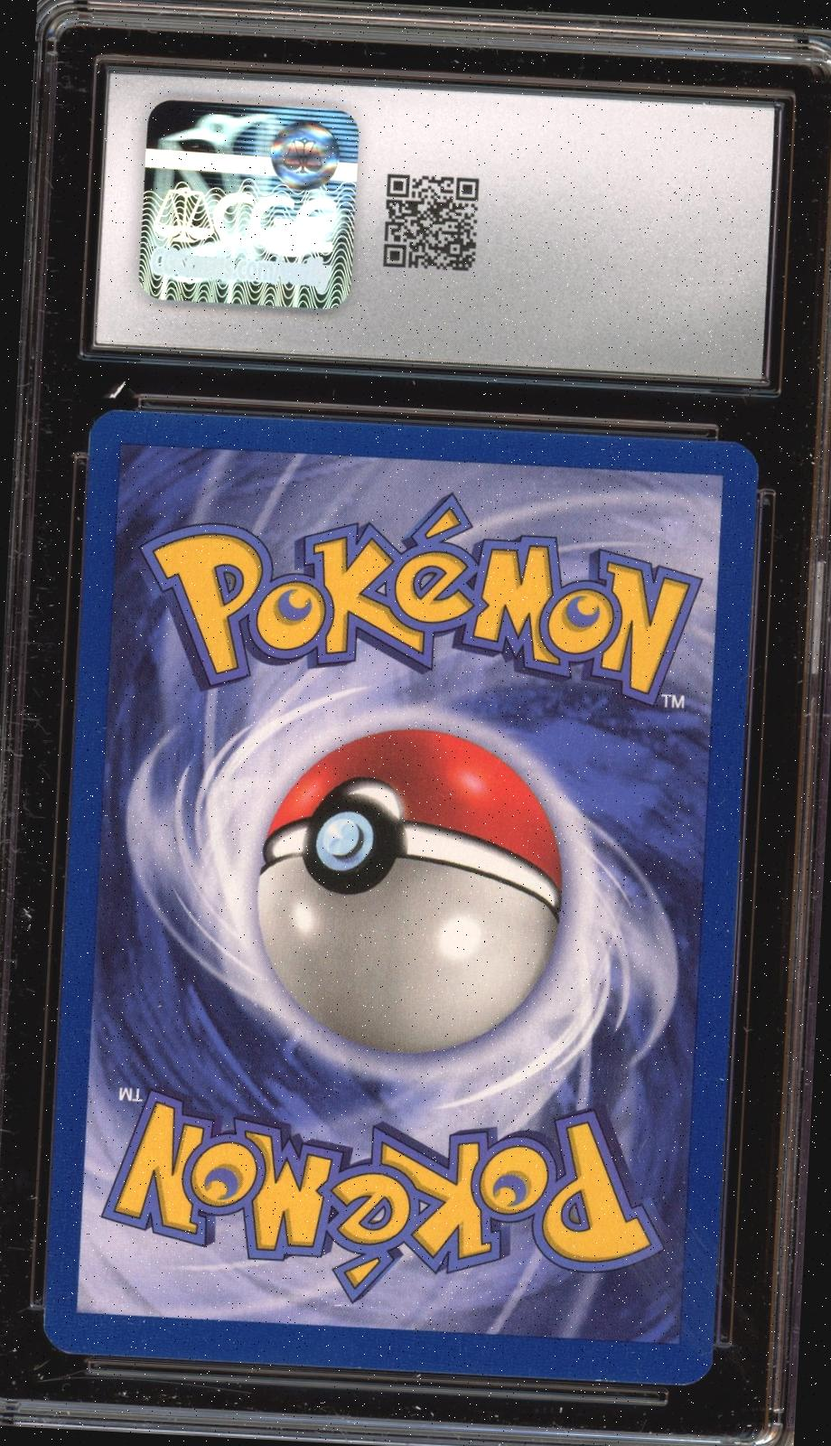card-2UtV: (43, 408, 760, 1386)
